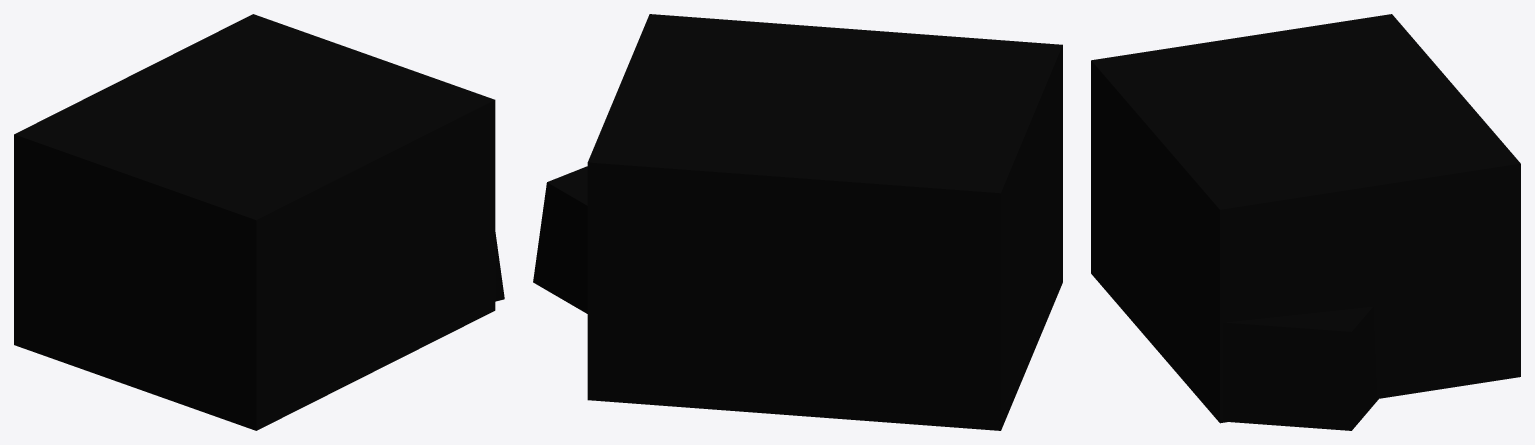
File: lava_rock.gltf
3 views of the same model, side by side, from view 1: azimuth 30°, elevation 25°; view 2: azimuth 150°, elevation 25°; view 3: azimuth 270°, elevation 25° (orthographic). The views are drawn at different scales.
Parts seen in each view (by area): view 1: body; view 2: body, chip; view 3: body, chip.
Part boxes in pixels (x1=…): body: x1=14, y1=14, x2=495, y2=430; body: x1=587, y1=14, x2=1062, y2=430; chip: x1=533, y1=166, x2=587, y2=313; body: x1=1091, y1=14, x2=1520, y2=423; chip: x1=1223, y1=306, x2=1378, y2=430.
Bounding box in the file's own units: 0.6746 × 0.3472 × 0.5704.
2 materials, 2 textured.
